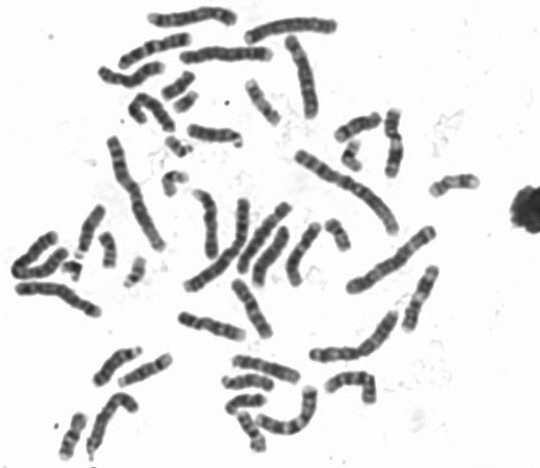chromosomes: (287, 150, 404, 241), (103, 132, 171, 255), (176, 194, 255, 298), (341, 223, 440, 300), (306, 305, 402, 366), (234, 196, 297, 277), (84, 390, 140, 464), (10, 278, 107, 319), (10, 224, 71, 284), (285, 33, 323, 129), (256, 381, 321, 436), (396, 260, 443, 335), (240, 13, 345, 46), (112, 31, 196, 72), (228, 278, 278, 344), (284, 218, 328, 291), (146, 3, 242, 36), (248, 223, 293, 289), (88, 341, 149, 389), (177, 44, 281, 71), (174, 309, 249, 345), (123, 90, 179, 136), (113, 350, 179, 389), (230, 351, 304, 384), (189, 188, 222, 262), (92, 58, 167, 90), (241, 78, 285, 131), (73, 201, 109, 261), (323, 368, 380, 405), (233, 410, 272, 462), (327, 112, 384, 147), (186, 121, 247, 152), (427, 167, 484, 200), (383, 104, 406, 183), (56, 411, 89, 464), (159, 67, 200, 102), (324, 214, 354, 259), (120, 252, 150, 295), (220, 371, 277, 393), (223, 391, 269, 417), (161, 167, 196, 200), (95, 230, 120, 275), (339, 138, 367, 177), (171, 88, 201, 117), (160, 135, 194, 160), (59, 259, 85, 288)
